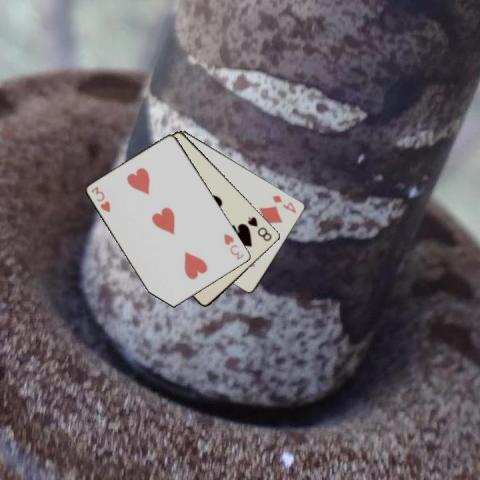3h: (222, 231, 246, 261), (89, 184, 112, 214)
4d: (269, 192, 298, 215)
8s: (245, 214, 273, 243)
